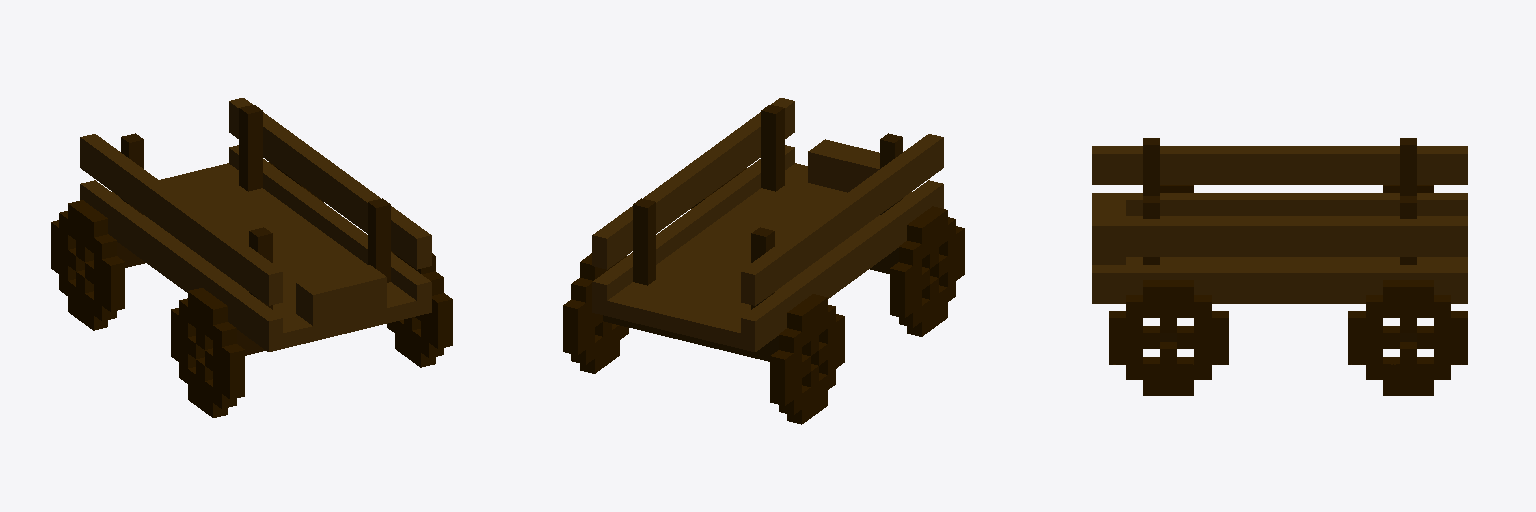
3 views of the same model, side by side, from view 1: azimuth 30°, elevation 25°; view 2: azimuth 150°, elevation 25°; view 3: azimuth 270°, elevation 25° (orthographic).
Parts seen in each view (by area): view 1: object 1; view 2: object 1; view 3: object 1.
Part boxes in pixels (bbox=[...]): object 1: bbox=[51, 98, 452, 417]; object 1: bbox=[563, 98, 964, 424]; object 1: bbox=[1092, 138, 1467, 395].
Size of the model in its own units: 1.5 by 1.1 by 2.2.
Materials: 1 (1 with a texture image).